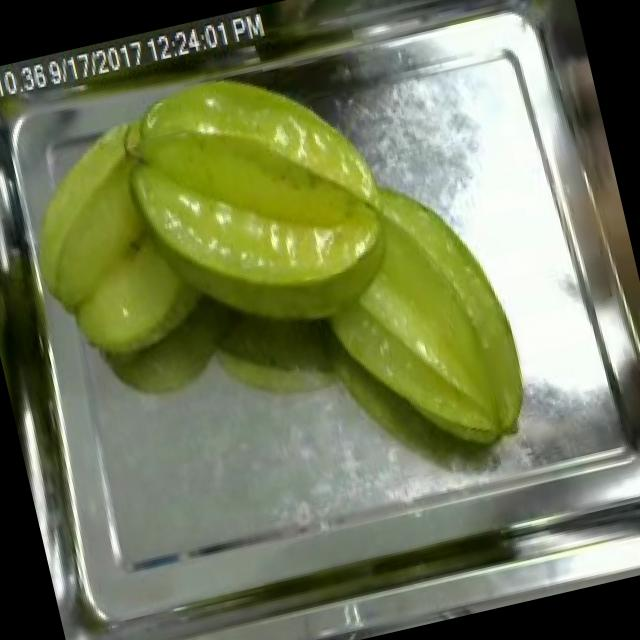fruit: (92, 35, 406, 332), (283, 158, 548, 491), (0, 103, 221, 385)
